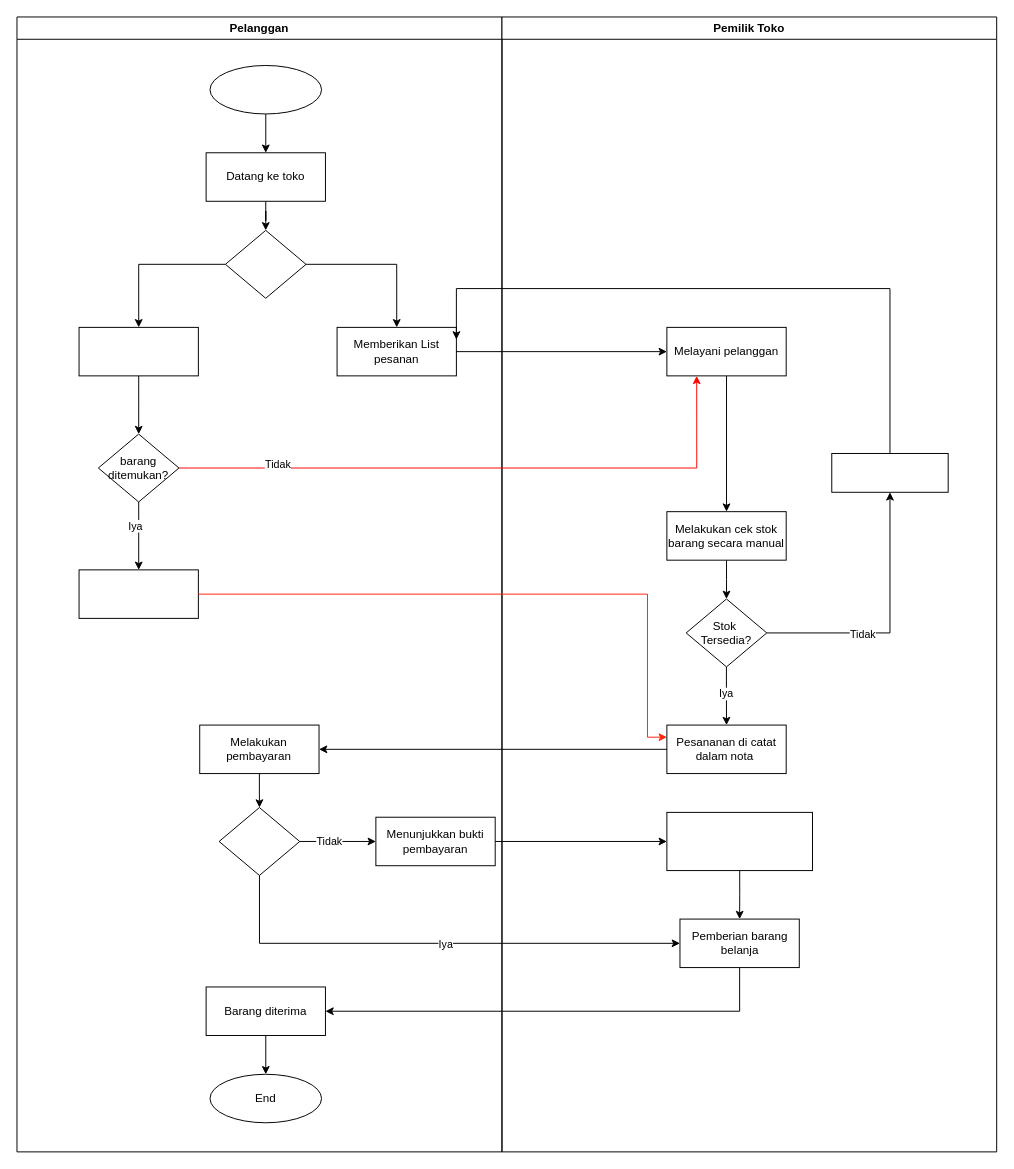
Image size: 1014x1169. Some labels were removed from this diagram. The shapes that lost their labels are listed below. From the top down, each one's centre as x and y in pixels, then its label:
the point at 265,89: Start
the point at 265,263: Opsi Pemesanan
the point at 138,351: Mengambil barang sendiri
the point at 889,472: Melakukan konfirmasi kepada pelanggan
the point at 138,593: Mengantarkan barang ke kasir
the point at 259,841: Cash?
the point at 739,841: Memberikan konfirmasi pembayaran berhasil
